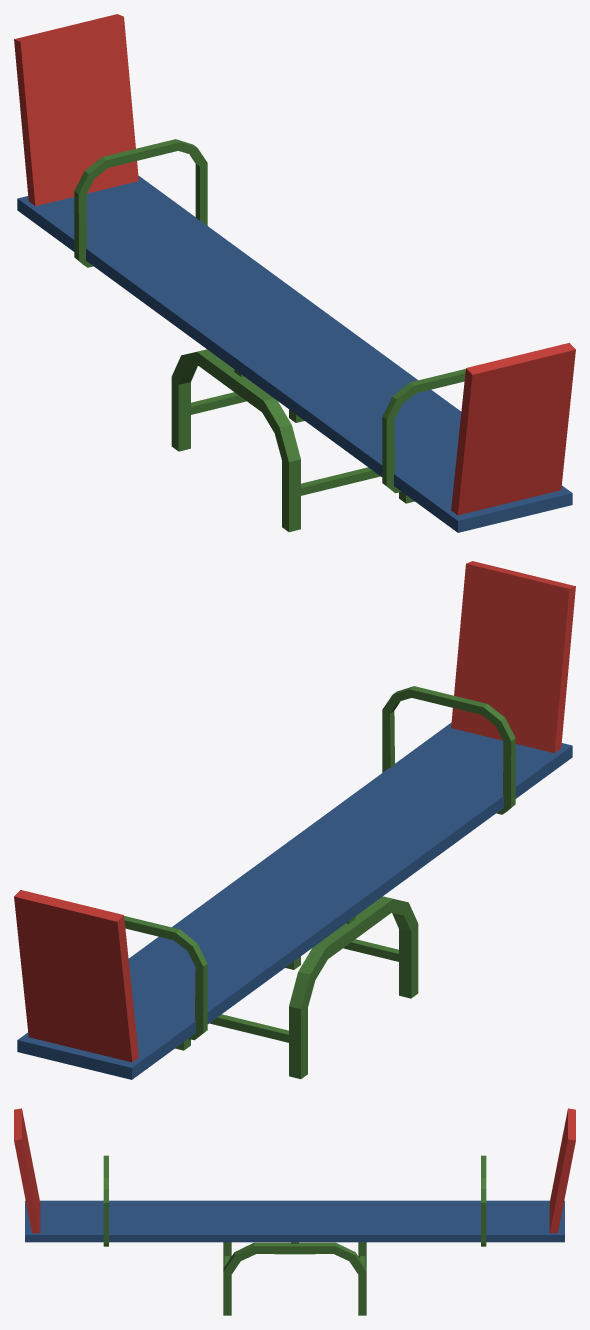
The model's file is SM_Props_Playground_03.fbx.
3 views of the same model, one above another, from view 1: azimuth 30°, elevation 25°; view 2: azimuth 150°, elevation 25°; view 3: azimuth 270°, elevation 25° (orthographic). The views are drawn at different scales.
Parts seen in each view (by area): view 1: SM_Props_Playground_03; view 2: SM_Props_Playground_03; view 3: SM_Props_Playground_03.
Part boxes in pixels (<box>): SM_Props_Playground_03: <box>14,14,575,532</box>; SM_Props_Playground_03: <box>14,561,575,1079</box>; SM_Props_Playground_03: <box>14,1108,575,1315</box>.
Size of the model in its own units: 0.339 by 0.7044 by 2.08.
